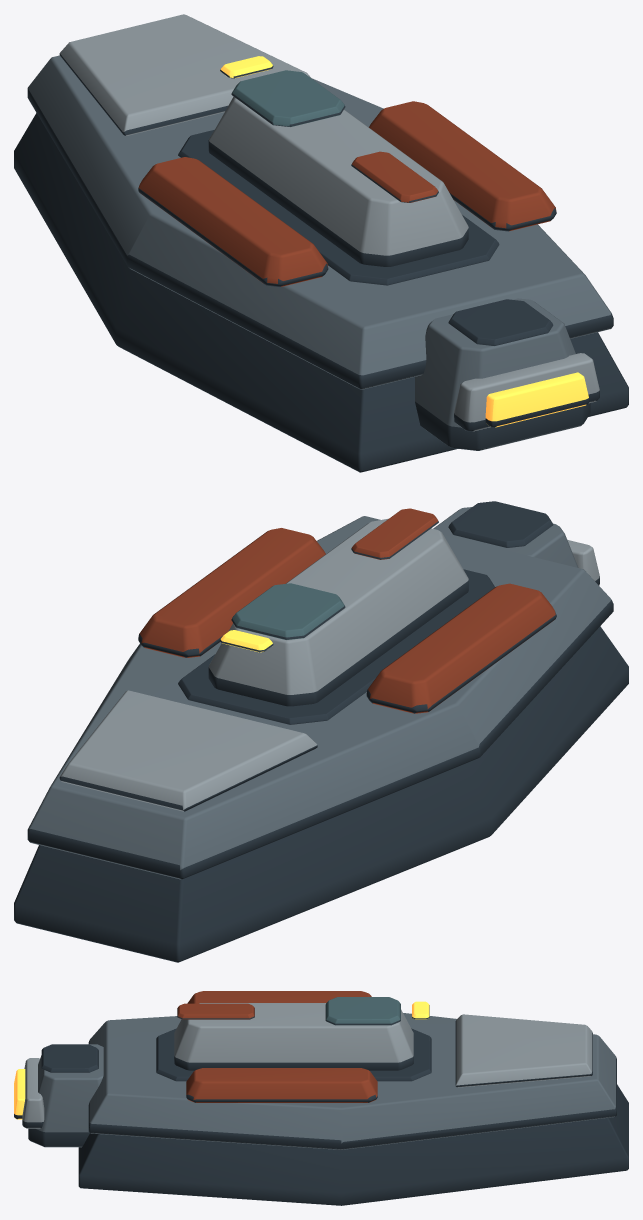
Rendered from enemy-scout-1slot.glb.
3 renders of one model, top to bottom at view 1: azimuth 30°, elevation 25°; view 2: azimuth 150°, elevation 25°; view 3: azimuth 270°, elevation 25°, orthographic. The views are drawn at different scales.
Visible parts, largest first — view 1: Armored deck, Graphite keel, Command spine, Faceted nose shield, Rust shoulder, Engine cowling, Rust shoulder.001, Recessed command well, Recessed bridge glass, Exhaust lip, Amber exhaust, Engine inset (+2 smaller); view 2: Armored deck, Graphite keel, Command spine, Faceted nose shield, Rust shoulder, Rust shoulder.001, Recessed command well, Recessed bridge glass, Engine inset, Rust axial stripe, Engine cowling, Amber forward marker (+1 smaller); view 3: Armored deck, Graphite keel, Command spine, Faceted nose shield, Rust shoulder.001, Engine cowling, Recessed command well, Recessed bridge glass, Rust shoulder, Engine inset, Rust axial stripe, Exhaust lip (+2 smaller).
Boxes of the visible parts, x1,y1,x2,y2 form: Armored deck: (27,55,613,389); Graphite keel: (14,113,628,472); Command spine: (208,96,468,266); Faceted nose shield: (59,14,311,136); Rust shoulder: (138,157,328,287); Engine cowling: (415,298,590,450); Rust shoulder.001: (369,101,556,231); Recessed command well: (178,130,499,285); Recessed bridge glass: (231,70,345,126); Exhaust lip: (454,353,599,431); Amber exhaust: (485,372,588,427); Engine inset: (448,299,553,345); Armored deck: (27,516,613,879); Graphite keel: (14,626,628,962); Command spine: (208,518,468,706); Faceted nose shield: (59,690,317,811); Rust shoulder: (366,583,556,713); Rust shoulder.001: (138,528,325,657); Recessed command well: (178,569,494,724); Recessed bridge glass: (231,583,345,639); Engine inset: (448,501,553,547); Rust axial stripe: (351,508,438,559); Engine cowling: (433,507,578,567); Amber forward marker: (220,630,273,652); Armored deck: (88,1013,616,1149); Graphite keel: (78,1084,628,1205); Command spine: (174,1003,413,1070); Faceted nose shield: (455,1014,592,1087); Rust shoulder.001: (186,1068,377,1102); Engine cowling: (28,1044,103,1147); Recessed command well: (156,1028,431,1081); Recessed bridge glass: (325,997,400,1025); Rust shoulder: (187,991,371,1003); Engine inset: (41,1044,98,1072); Rust axial stripe: (177,1003,254,1019); Exhaust lip: (22,1058,44,1128).
Bounding box in the file's own units: 2.5 × 1.25 × 5.14.
